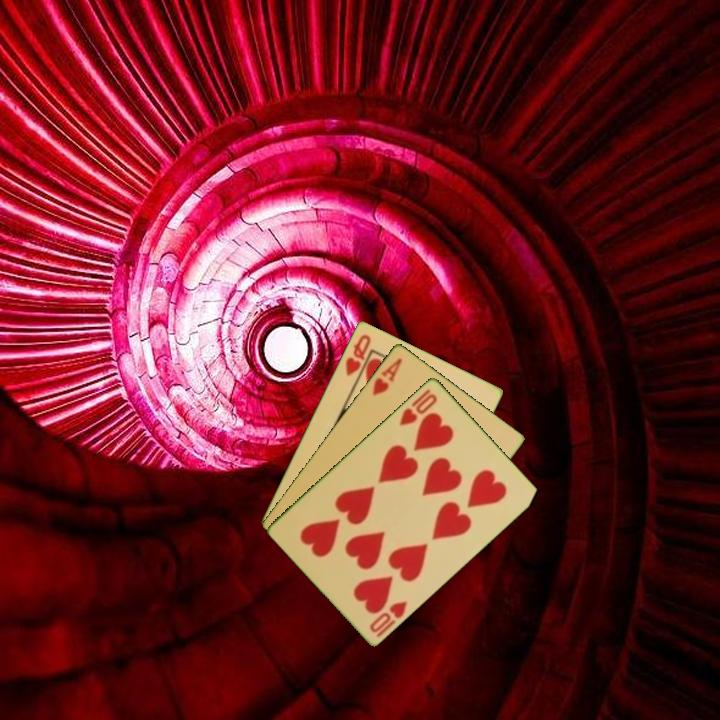10h: (366, 597, 411, 640), (395, 390, 440, 428)
Ah: (369, 354, 405, 398)
Qh: (342, 330, 374, 379)
